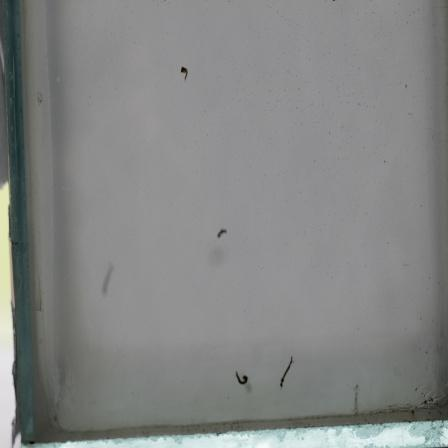Jentik-Nyamuk: (275, 353, 296, 391), (231, 368, 252, 388), (213, 225, 233, 243), (176, 63, 191, 86)
